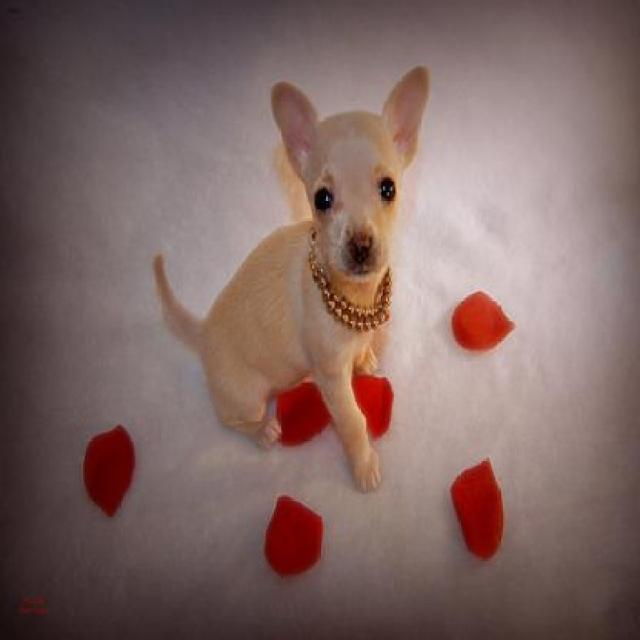Dog: (144, 62, 430, 496)
